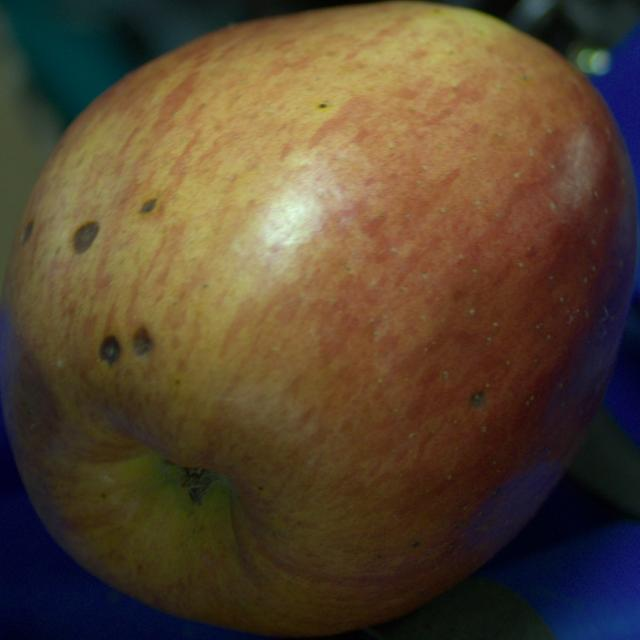apple: (0, 2, 638, 636)
pest: (73, 221, 99, 252), (100, 336, 120, 365), (134, 328, 152, 355), (471, 390, 486, 409), (139, 198, 156, 212), (23, 222, 32, 242), (319, 103, 327, 108)
